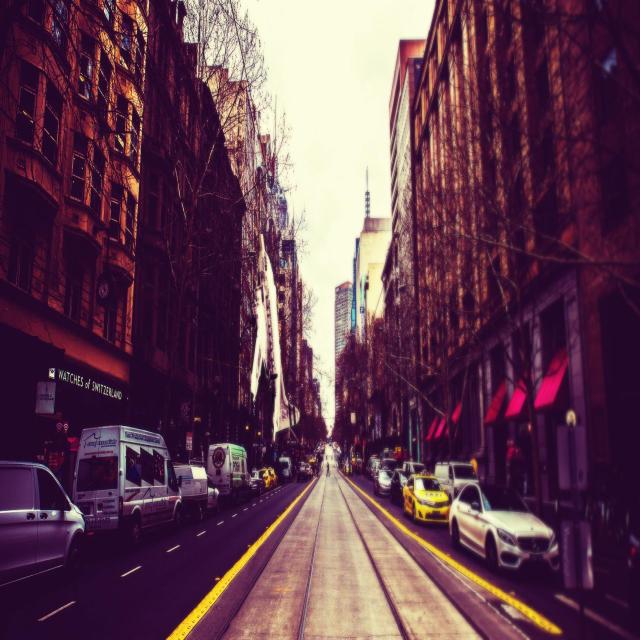airplane: (250, 234, 300, 442)
